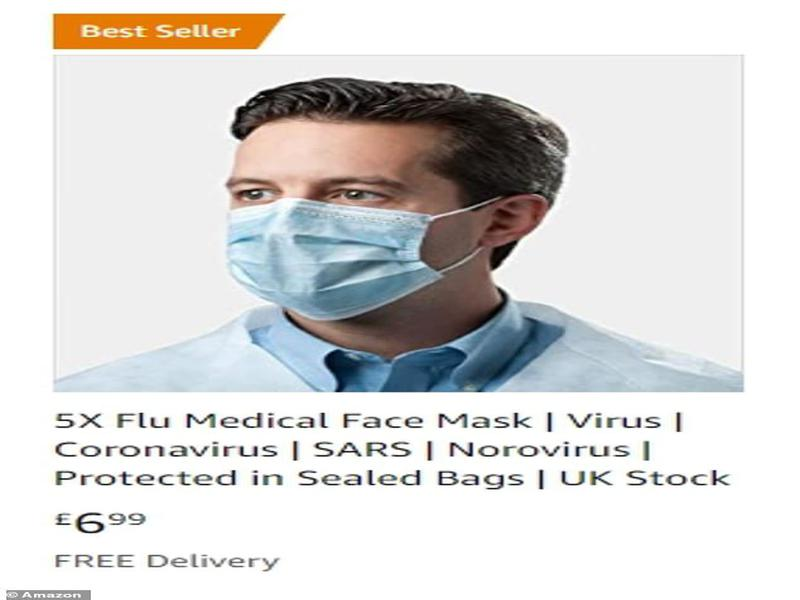with_mask: (223, 77, 571, 325)
